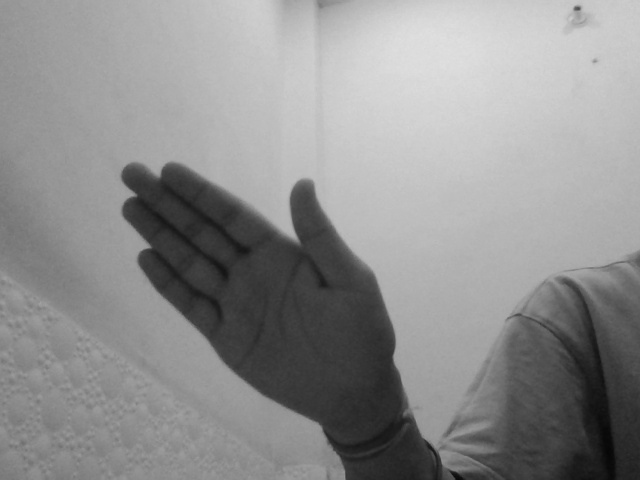Hello: (107, 150, 413, 439)
